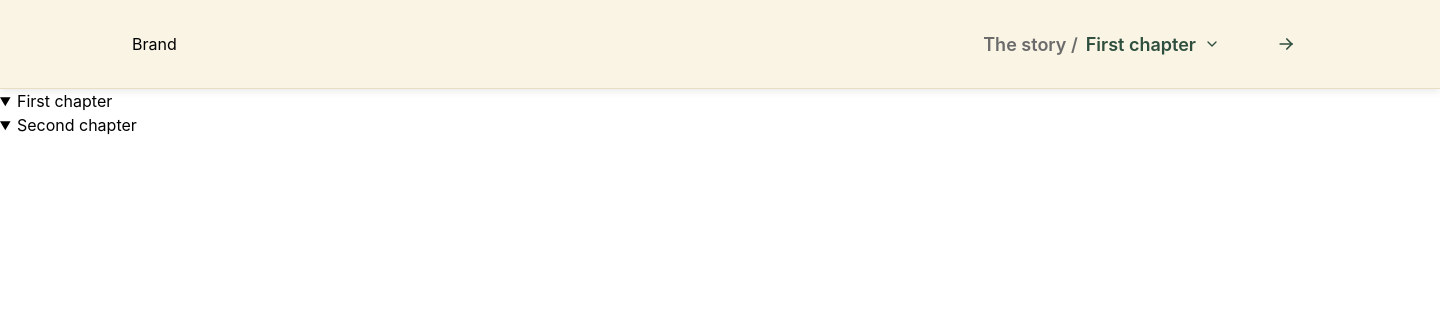
Test case: keeps the selected chapter active when its position changes as the picker closes
(page scrolled)
Press ArrowDown in the button "The story / First chapter", box 983,22 -> 1220,66
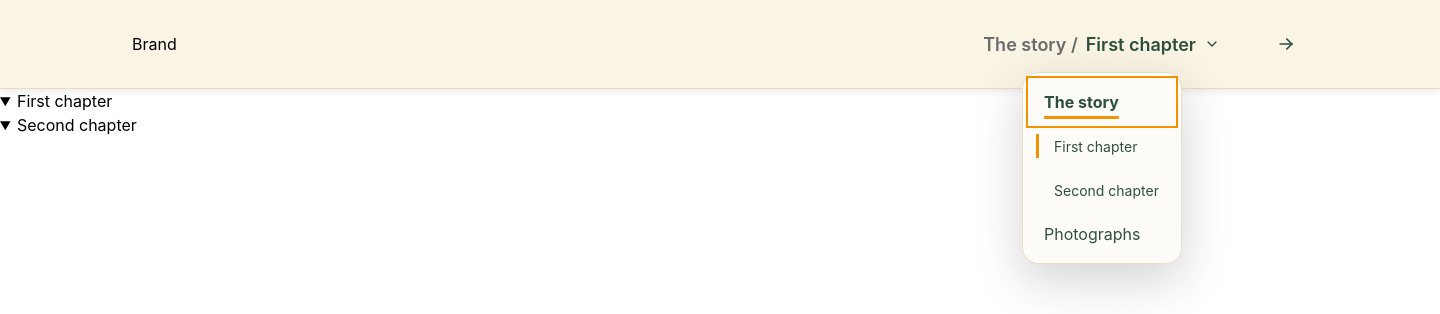
Click the menu item "Second chapter" at (1101, 190), box 1030,168 -> 1173,212
(page scrolled)
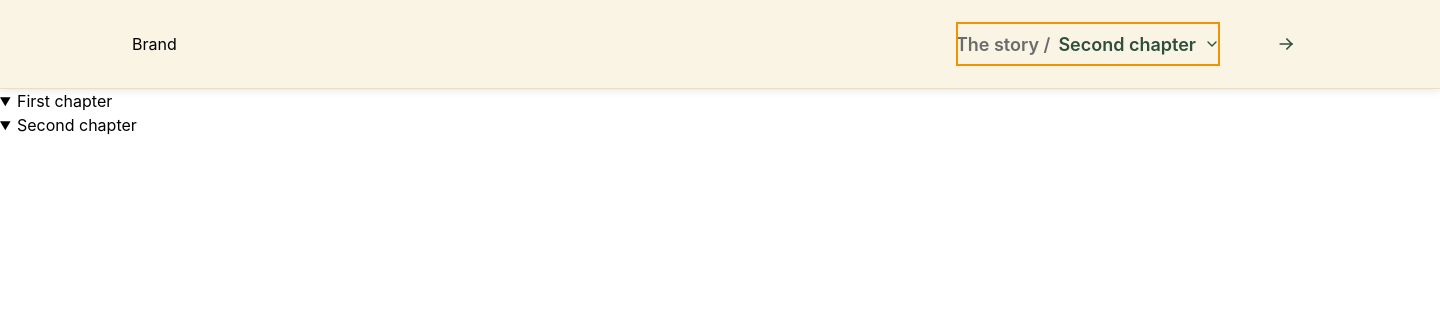
Expected: the button "The story / Second chapter" is shown, 956,22 -> 1220,66
